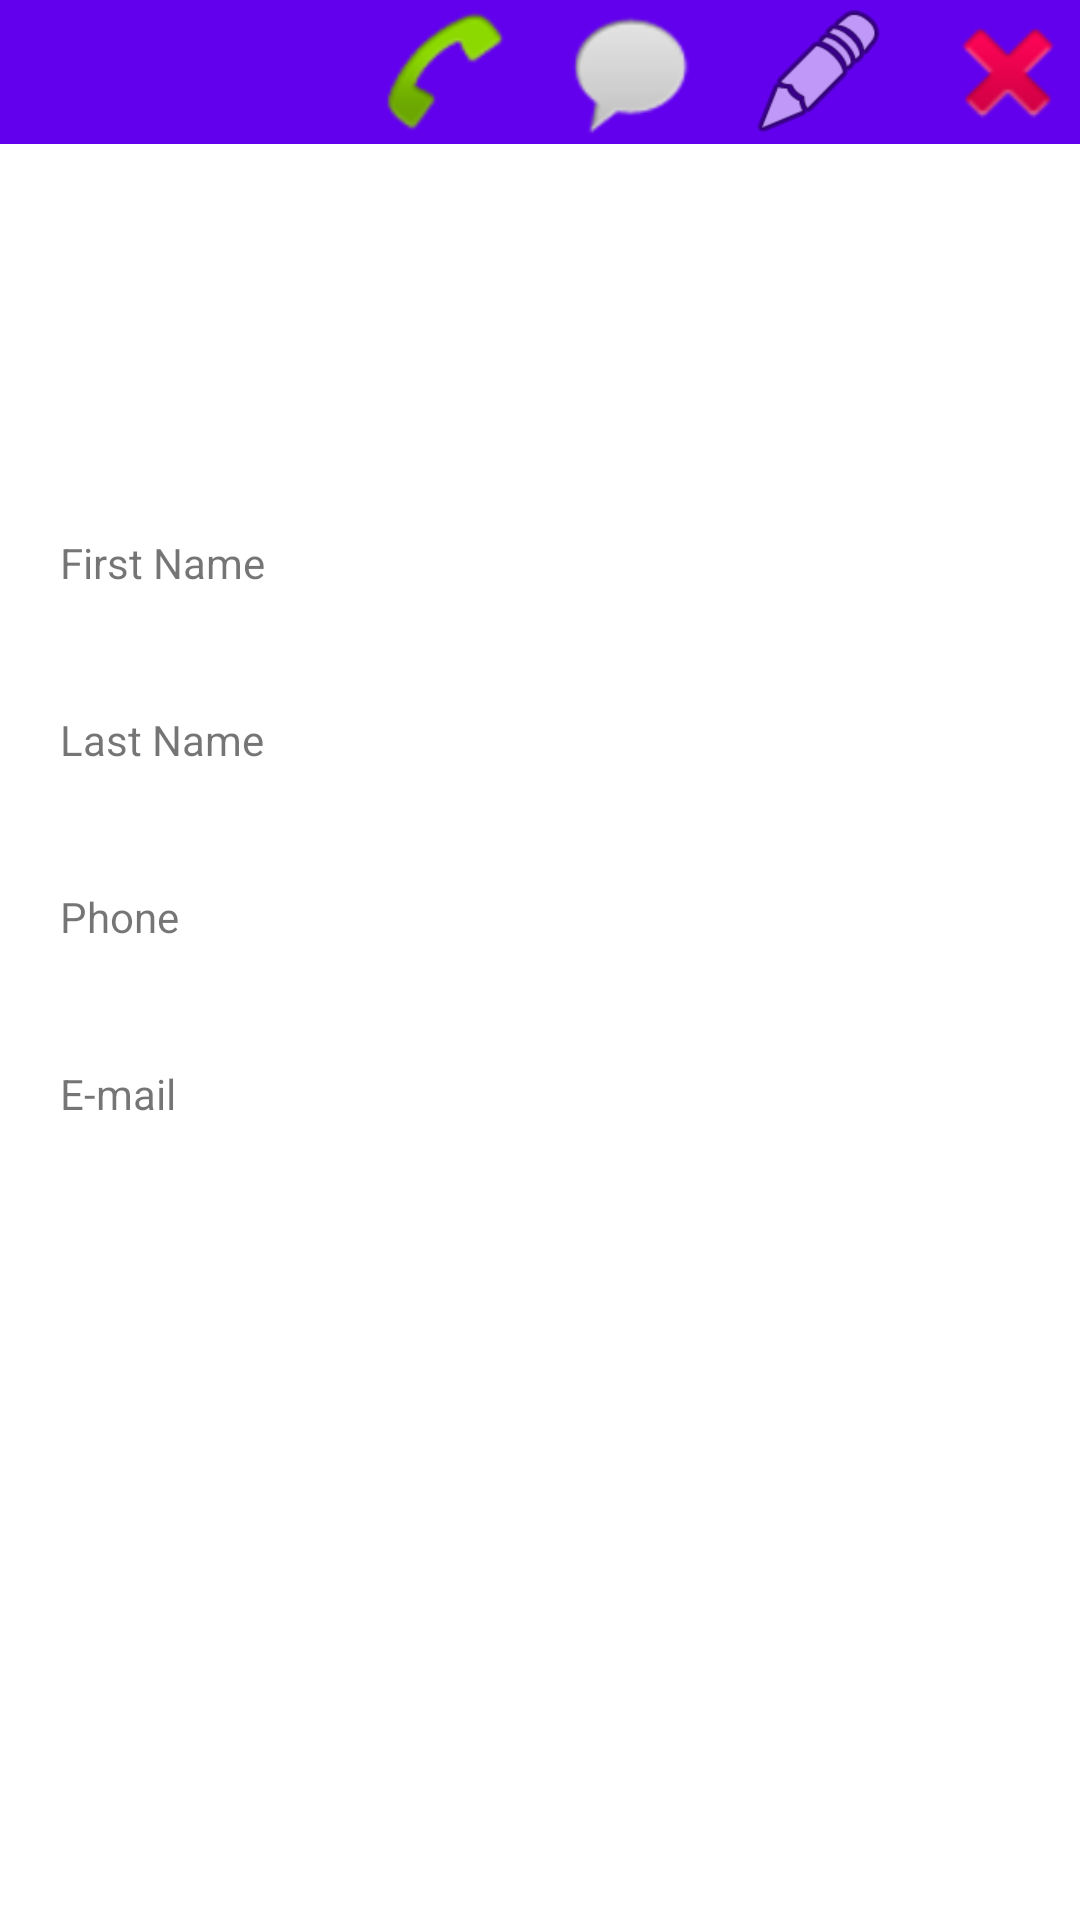

Named icons in this screenshot (1080 × 1920) and their centers, [x,y]:
delete: [1008,72]
edit: [818,71]
sym action call: [445,71]
sym action chat: [631,75]
